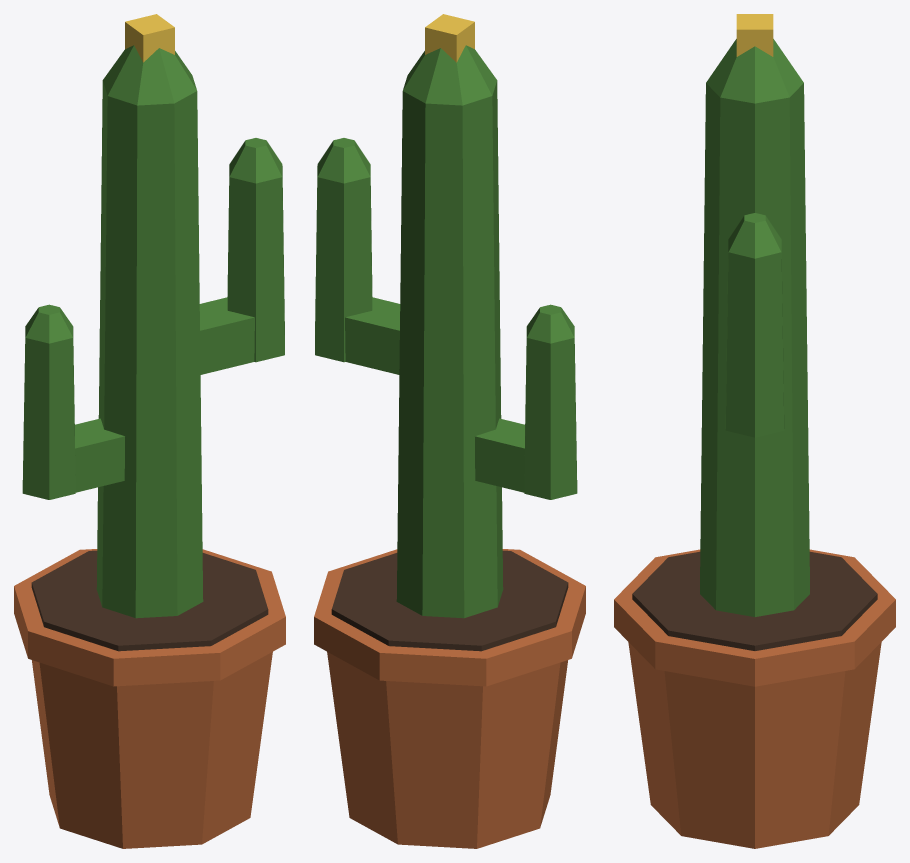
The model's file is cactus.glb.
3 views of the same model, side by side, from view 1: azimuth 30°, elevation 25°; view 2: azimuth 150°, elevation 25°; view 3: azimuth 270°, elevation 25° (orthographic).
Visible parts, largest first — view 1: model; view 2: model; view 3: model.
Part boxes in pixels (left/top/right/bottom): model: left=14, top=14, right=285, bottom=848; model: left=314, top=14, right=585, bottom=848; model: left=614, top=14, right=895, bottom=848.
Size of the model in its own units: 0.495 by 1.41 by 0.46.
